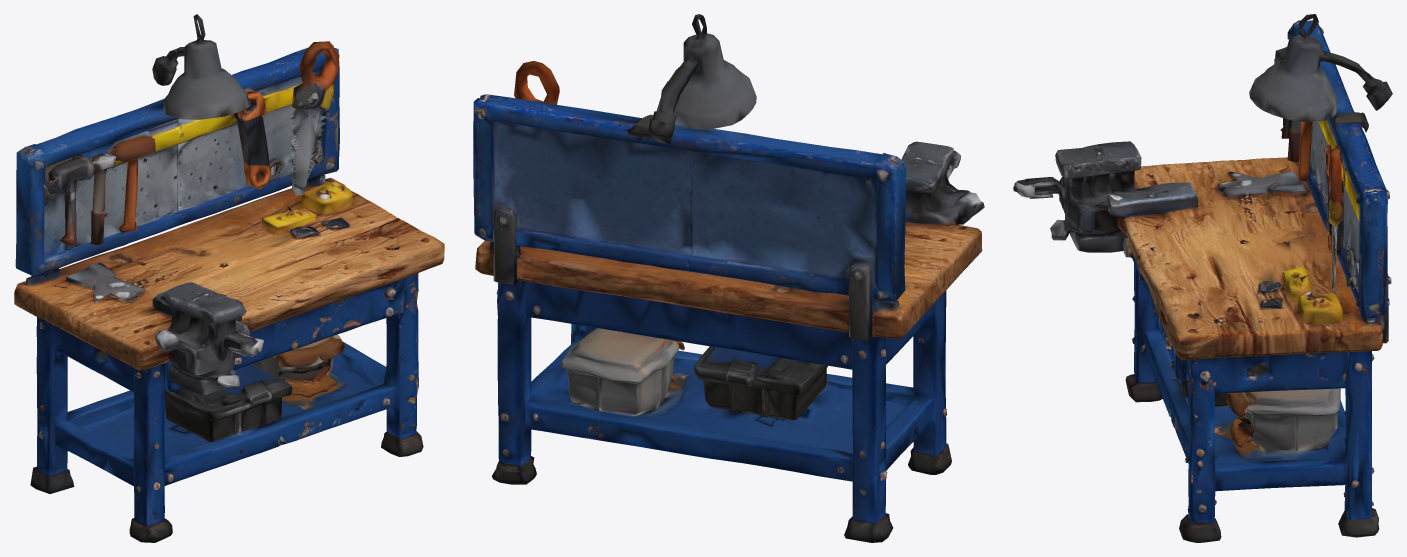
Rendered from tezgah.glb.
The picture shows the model from 3 angles, left to right: view 1: azimuth 30°, elevation 25°; view 2: azimuth 150°, elevation 25°; view 3: azimuth 270°, elevation 25°; orthographic projection. The views are drawn at different scales.
Visible parts, largest first — view 1: tripo_node_ce92d478-d4be-4a18-bb89-08ab22720aa1; view 2: tripo_node_ce92d478-d4be-4a18-bb89-08ab22720aa1; view 3: tripo_node_ce92d478-d4be-4a18-bb89-08ab22720aa1.
Part boxes in pixels (x1,y1,x2,y2): tripo_node_ce92d478-d4be-4a18-bb89-08ab22720aa1: (14,14,444,542); tripo_node_ce92d478-d4be-4a18-bb89-08ab22720aa1: (473,14,984,542); tripo_node_ce92d478-d4be-4a18-bb89-08ab22720aa1: (1013,14,1392,542).
Bounding box in the file's own units: 1.34 × 1.5 × 1.16.
1 material, 1 textured.
